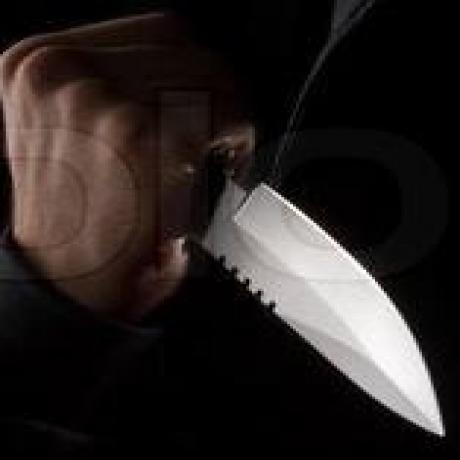1: (0, 6, 259, 335)
weapon: (197, 178, 447, 438)
